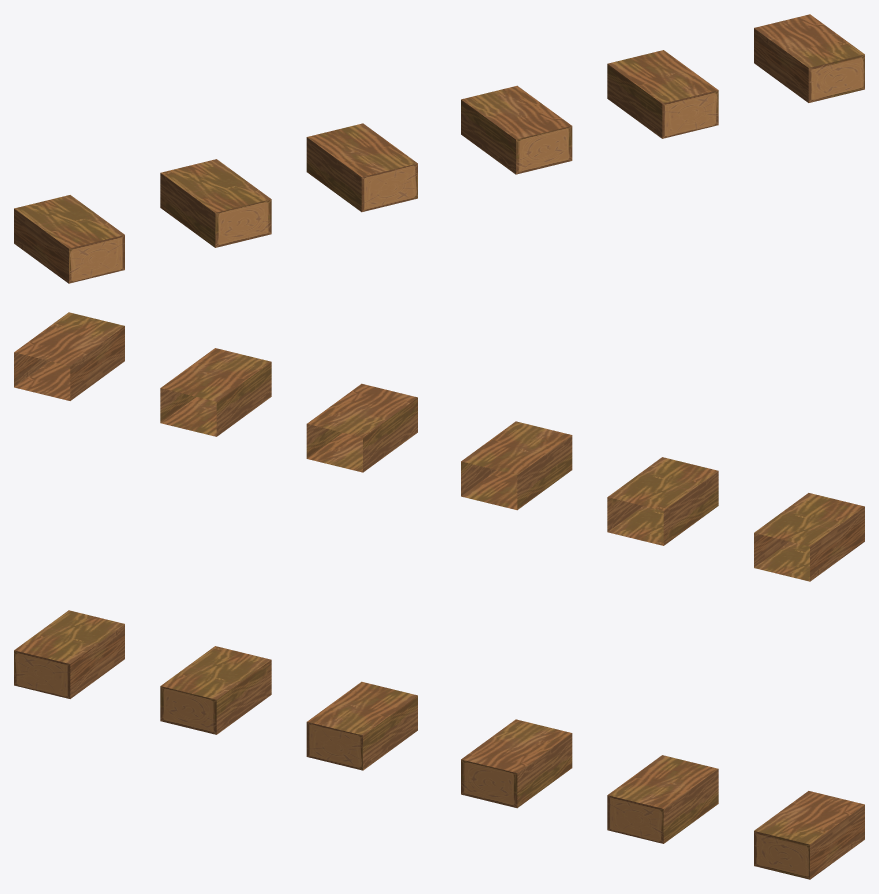
File: Roof_FrontSupports.gltf
The picture shows the model from 3 angles, top to bottom: view 1: azimuth 30°, elevation 25°; view 2: azimuth 150°, elevation 25°; view 3: azimuth 330°, elevation 25°; orthographic projection.
Visible parts, largest first — view 1: Roof_FrontSupports; view 2: Roof_FrontSupports; view 3: Roof_FrontSupports.
Part boxes in pixels (x1=…): Roof_FrontSupports: x1=14, y1=14, x2=864, y2=283; Roof_FrontSupports: x1=14, y1=312, x2=864, y2=581; Roof_FrontSupports: x1=14, y1=610, x2=864, y2=879.
Size of the model in its own units: 5.49 by 0.2312 by 0.6545.
1 material, 1 textured.
